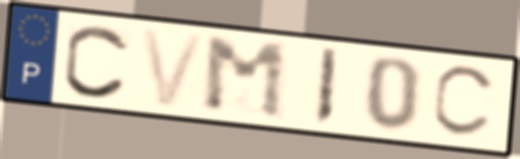0: (361, 53, 425, 135)
C: (60, 22, 133, 102), (429, 64, 501, 141)
I: (311, 45, 342, 129)
M: (202, 35, 289, 122)
V: (138, 26, 210, 110)
